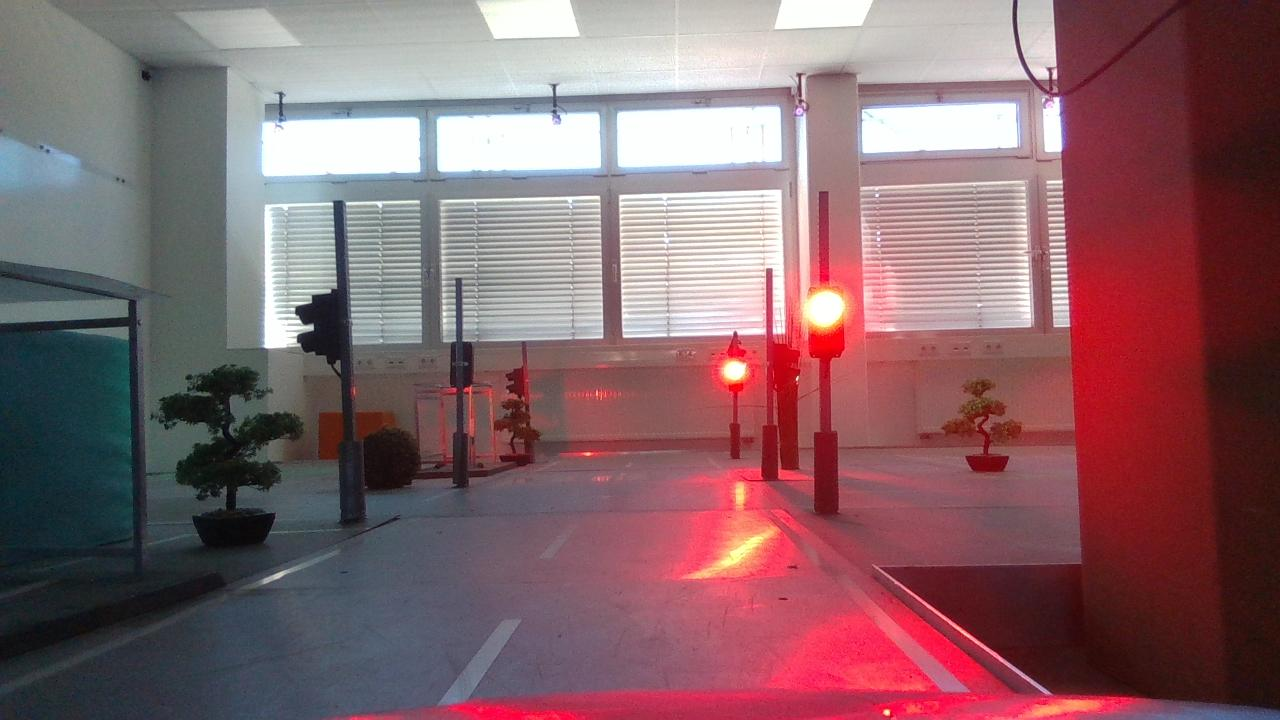traffic_light_red: (794, 281, 859, 367)
